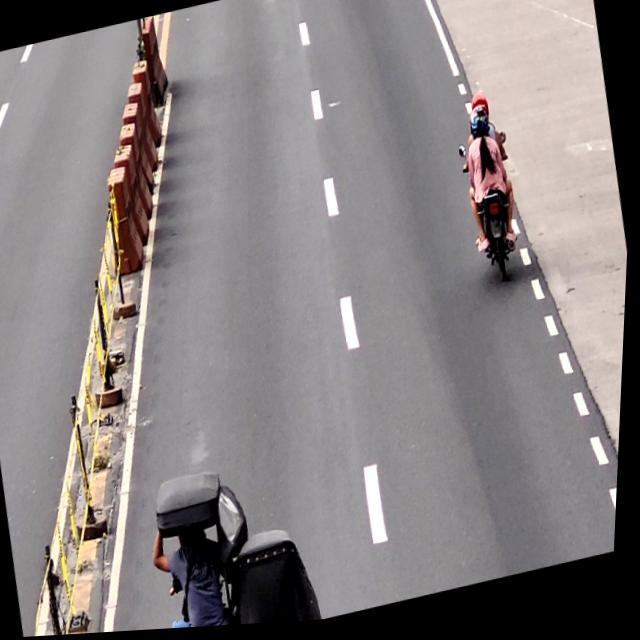Motorcycle: (455, 134, 533, 293)
Tricycle: (147, 449, 333, 632)
